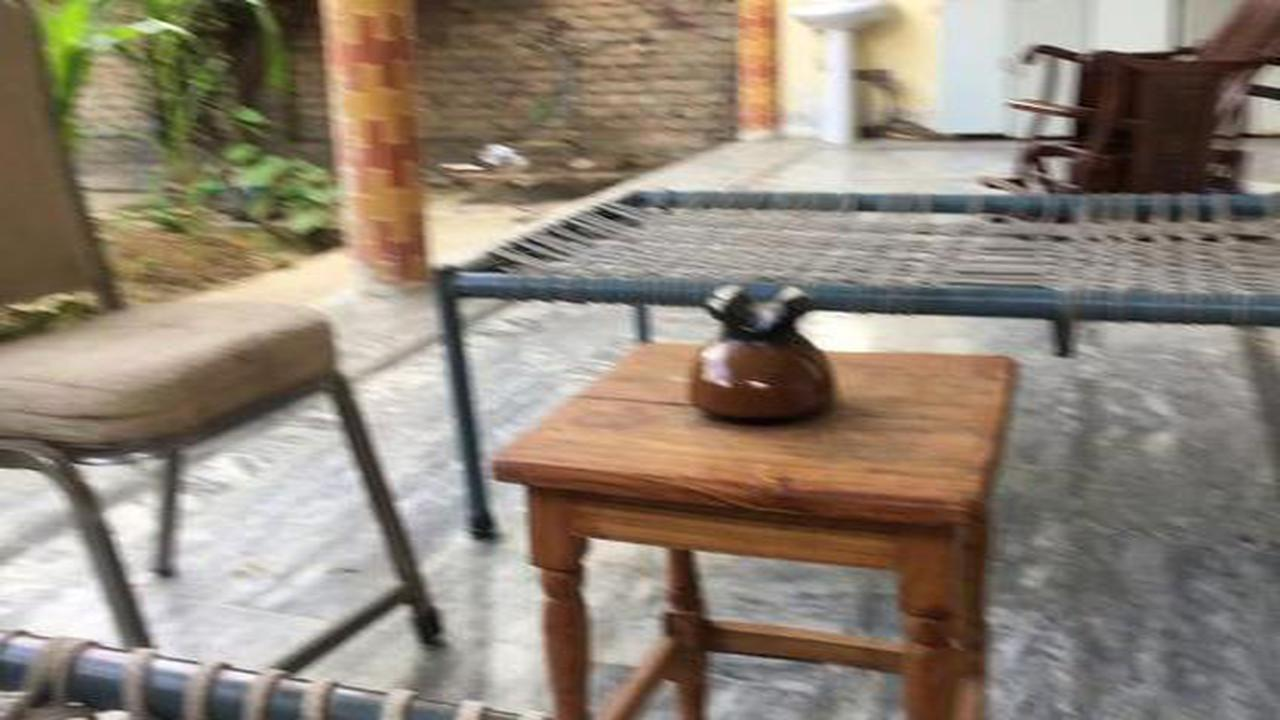insulator_pin: (665, 267, 859, 430)
